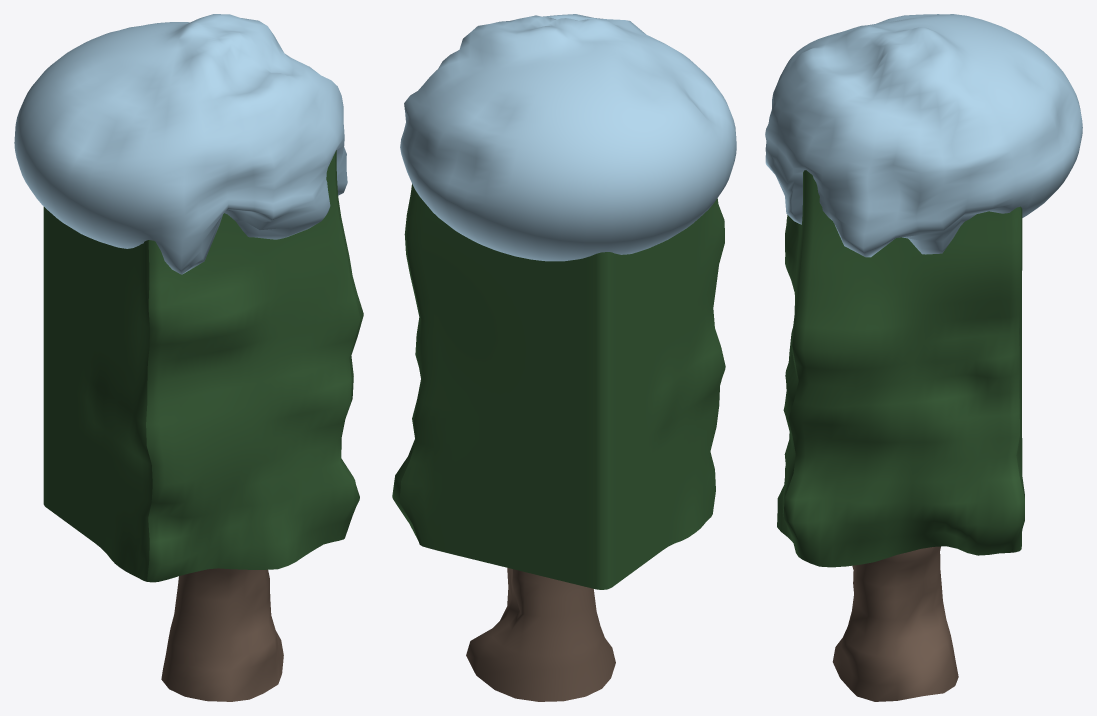
Rendered from treeSnow.fbx.
3 renders of one model, left to right at view 1: azimuth 30°, elevation 25°; view 2: azimuth 150°, elevation 25°; view 3: azimuth 270°, elevation 25°, orthographic. The views are drawn at different scales.
Visible parts, largest first — view 1: pCube1, pSphere1, pCylinder4; view 2: pCube1, pSphere1, pCylinder4; view 3: pCube1, pSphere1, pCylinder4.
Boxes of the visible parts, x1=… form: pCube1: x1=43, y1=150, x2=363, y2=582; pSphere1: x1=14, y1=14, x2=347, y2=274; pCylinder4: x1=161, y1=568, x2=283, y2=701; pCube1: x1=392, y1=184, x2=725, y2=589; pSphere1: x1=400, y1=14, x2=736, y2=261; pCylinder4: x1=466, y1=568, x2=615, y2=701; pCube1: x1=777, y1=170, x2=1024, y2=567; pSphere1: x1=765, y1=14, x2=1082, y2=257; pCylinder4: x1=832, y1=546, x2=958, y2=701.
Size of the model in its own units: 0.4763 by 1.02 by 0.4568.
